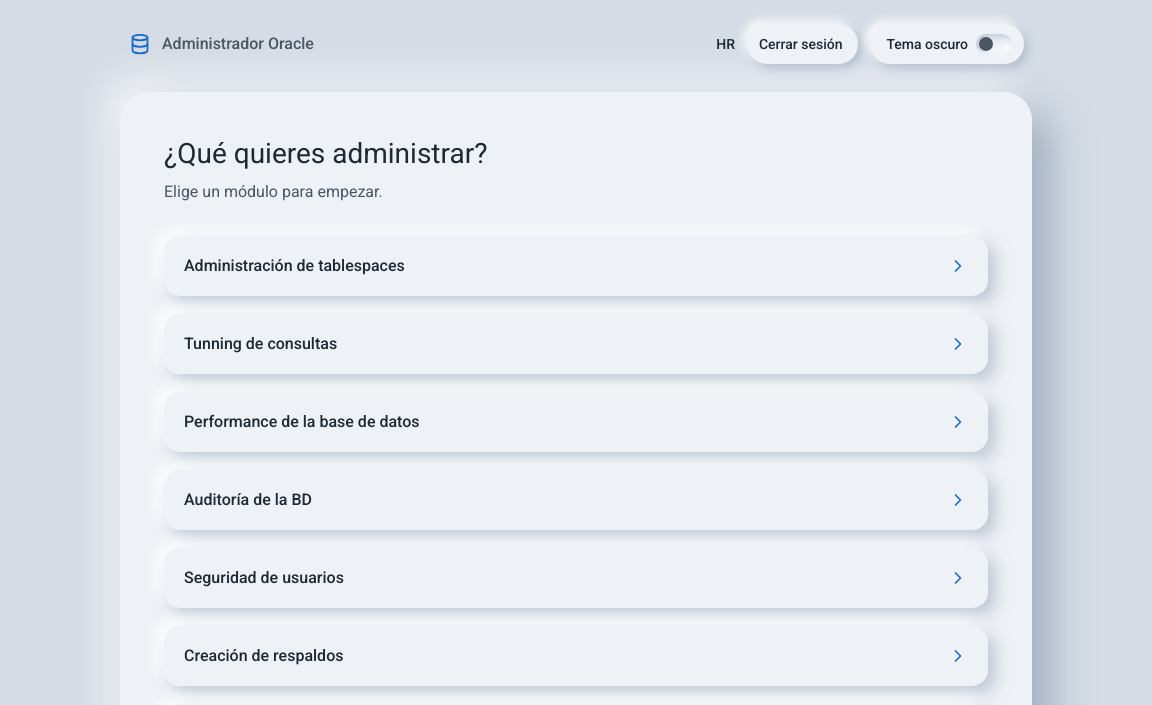
Test case: navegación de una pantalla a la vez › al elegir «Creación de respaldos» el submenú reemplaza al menú principal
Click the button "Creación de respaldos": {"x": 264, "y": 656} [164,626,988,686]
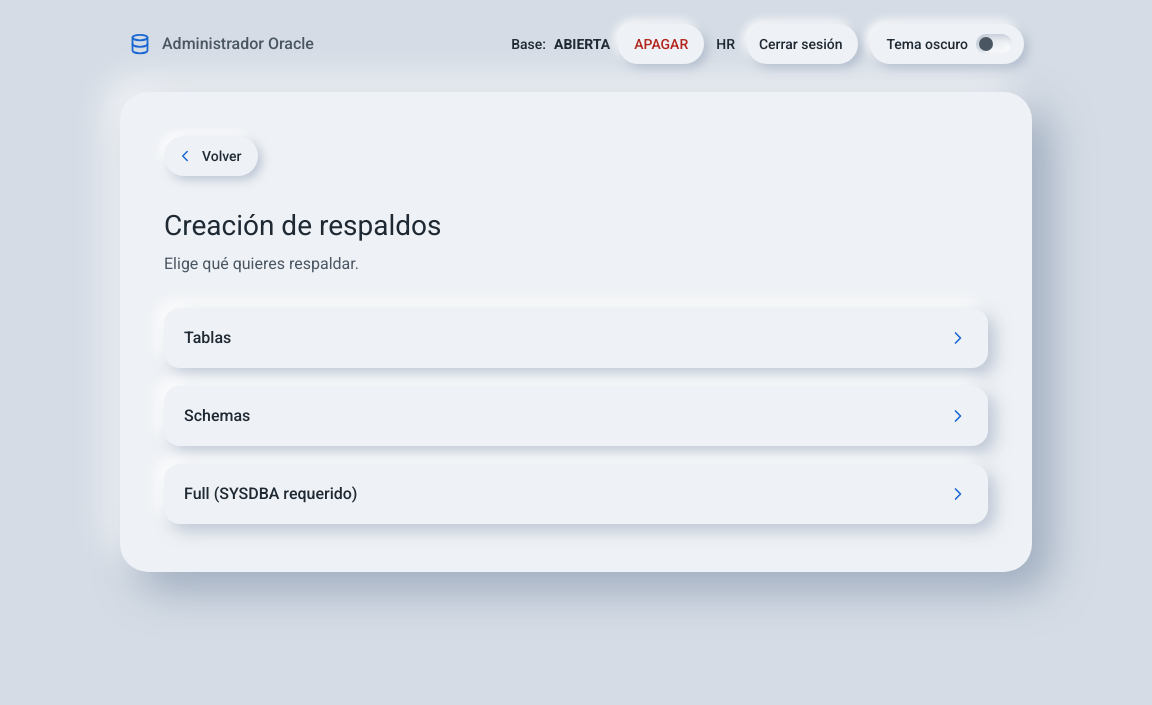
Expected: the button "Tablas" is shown, [164,308,988,368]
Expected: the button "Schemas" is shown, [164,386,988,446]
Expected: the button "Full (SYSDBA requerido)" is shown, [164,464,988,524]
